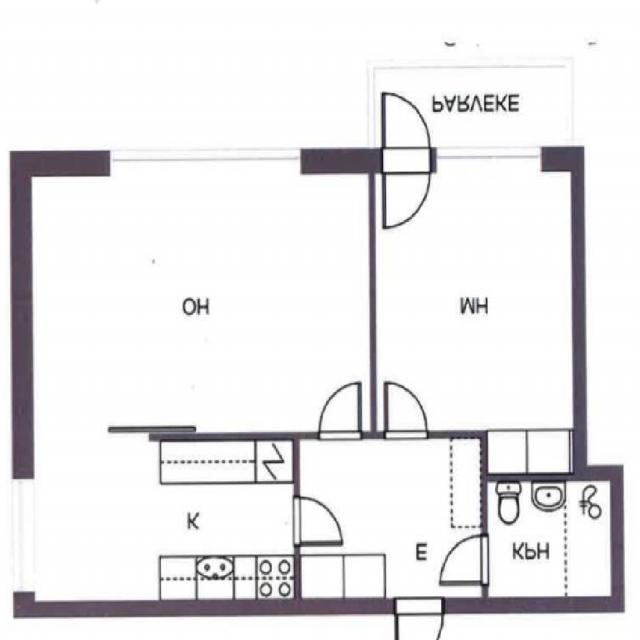door: (384, 92, 431, 170), (384, 147, 431, 224), (319, 383, 362, 440), (385, 383, 427, 440), (294, 496, 341, 543), (442, 537, 488, 583), (397, 599, 444, 640)
